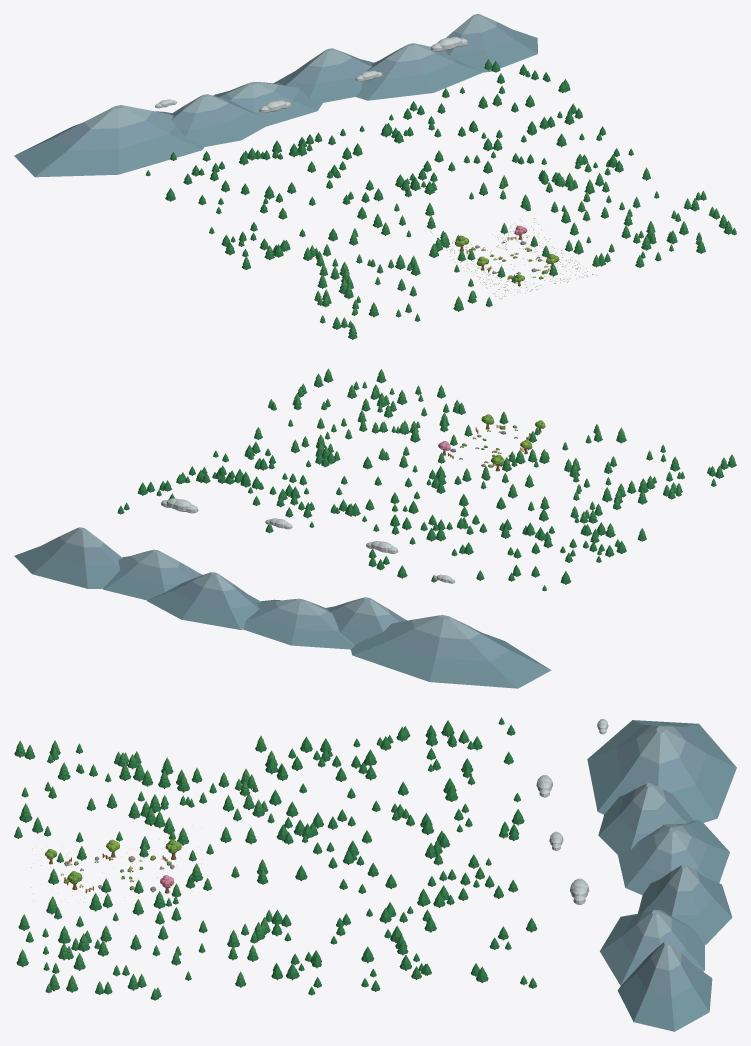
Rendered from groves.glb.
The picture shows the model from 3 angles, top to bottom: view 1: azimuth 30°, elevation 25°; view 2: azimuth 150°, elevation 25°; view 3: azimuth 270°, elevation 25°; orthographic projection. The views are drawn at different scales.
Visible parts, largest first — view 1: Culmi, Nori, Poiana_16_17_17, Poiana_16_17_18, Poiana_16_21_16, Poiana_16_22_17, Poiana_16_20_16; view 2: Culmi, Nori, Poiana_16_17_18, Poiana_16_17_17, Poiana_16_21_16; view 3: Culmi, Nori, Poiana_16_17_17, Poiana_16_17_18, Poiana_16_20_16, Poiana_16_21_16, Poiana_16_22_17, Poiana_16_19_18, Poiana_16_21_18, Poiana_16_19_17, Poiana_16_22_18, Poiana_16_20_17 (+7 smaller).
Part boxes in pixels (left/top/right/bottom): Culmi: left=14, top=14, right=537, bottom=177; Nori: left=155, top=37, right=467, bottom=113; Poiana_16_17_17: left=198, top=180, right=287, bottom=246; Poiana_16_17_18: left=242, top=229, right=330, bottom=260; Poiana_16_21_16: left=437, top=73, right=518, bottom=138; Poiana_16_22_17: left=526, top=116, right=619, bottom=165; Poiana_16_20_16: left=380, top=105, right=441, bottom=143; Culmi: left=14, top=527, right=551, bottom=688; Nori: left=161, top=498, right=455, bottom=583; Poiana_16_17_18: left=549, top=506, right=619, bottom=547; Poiana_16_17_17: left=522, top=522, right=604, bottom=562; Poiana_16_21_16: left=219, top=465, right=298, bottom=507; Culmi: left=587, top=720, right=736, bottom=1031; Nori: left=536, top=719, right=608, bottom=904; Poiana_16_17_17: left=313, top=726, right=410, bottom=781; Poiana_16_17_18: left=235, top=748, right=306, bottom=796; Poiana_16_20_16: left=425, top=830, right=491, bottom=886; Poiana_16_21_16: left=407, top=872, right=494, bottom=921; Poiana_16_22_17: left=310, top=925, right=408, bottom=991; Poiana_16_19_18: left=233, top=808, right=313, bottom=844; Poiana_16_21_18: left=241, top=909, right=291, bottom=943; Poiana_16_19_17: left=310, top=804, right=403, bottom=860; Poiana_16_22_18: left=235, top=945, right=311, bottom=987; Poiana_16_20_17: left=313, top=842, right=396, bottom=893.
Size of the model in its own units: 127 by 14.16 by 124.
